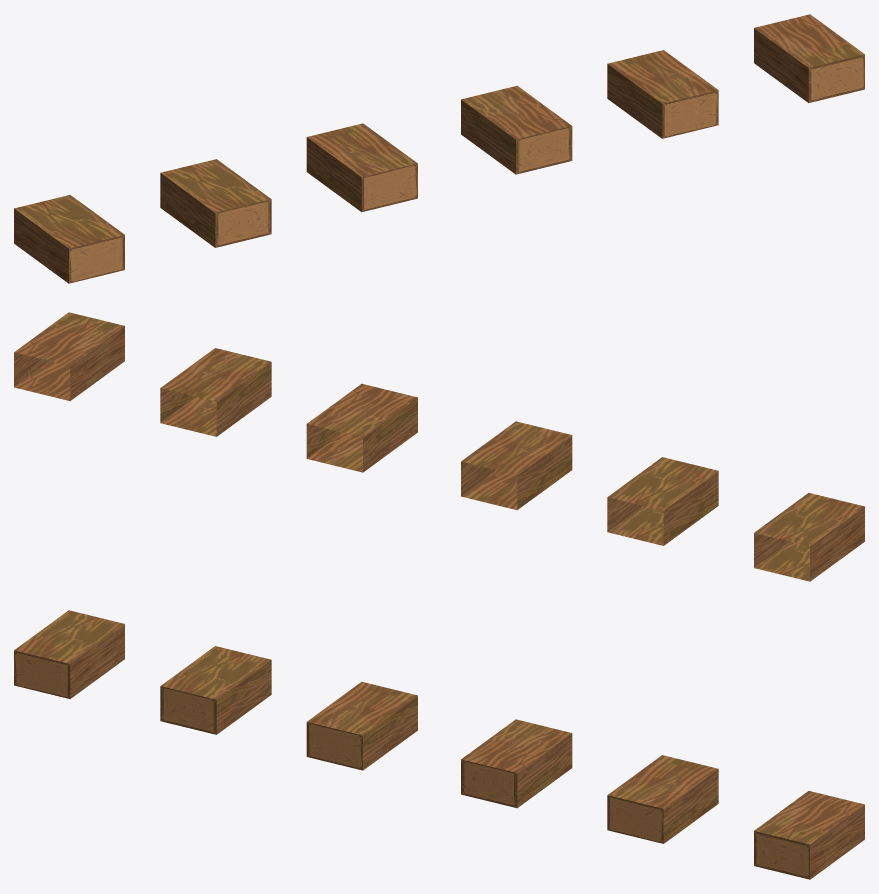
File: Roof_FrontSupports.gltf
The picture shows the model from 3 angles, top to bottom: view 1: azimuth 30°, elevation 25°; view 2: azimuth 150°, elevation 25°; view 3: azimuth 330°, elevation 25°; orthographic projection.
Visible parts, largest first — view 1: Roof_FrontSupports; view 2: Roof_FrontSupports; view 3: Roof_FrontSupports.
Part boxes in pixels (x1=…): Roof_FrontSupports: x1=14, y1=14, x2=864, y2=283; Roof_FrontSupports: x1=14, y1=312, x2=864, y2=581; Roof_FrontSupports: x1=14, y1=610, x2=864, y2=879.
Bounding box in the file's own units: 5.49 × 0.2312 × 0.6545.
Materials: 1 (1 with a texture image).
